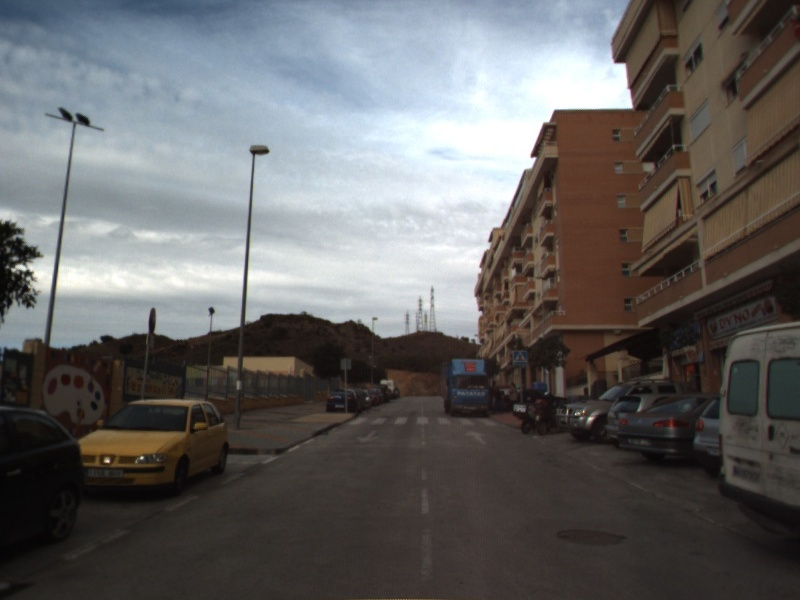STRAIGHT: (463, 428, 489, 446)
